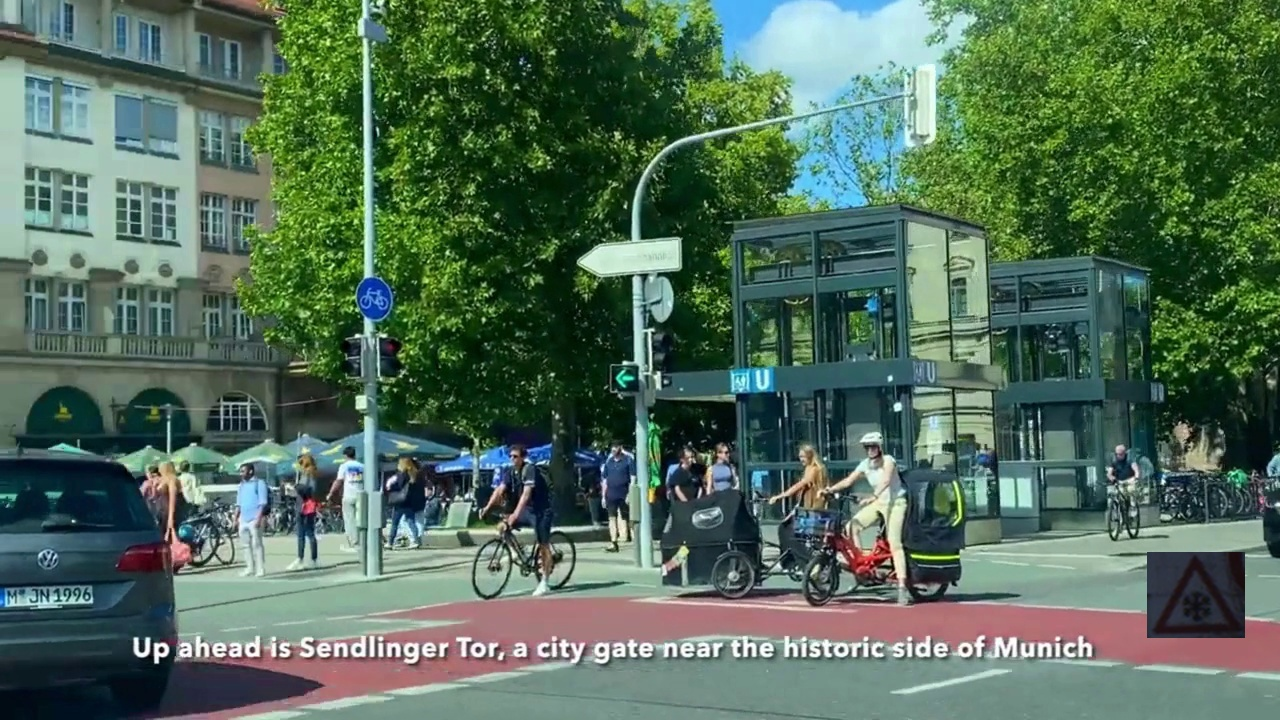Ice/snow: (1147, 552, 1245, 638)
